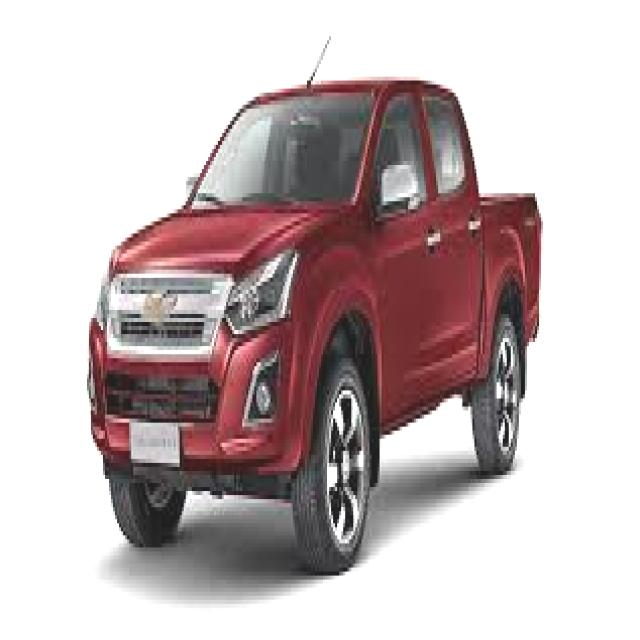CMT: (87, 85, 550, 576)
